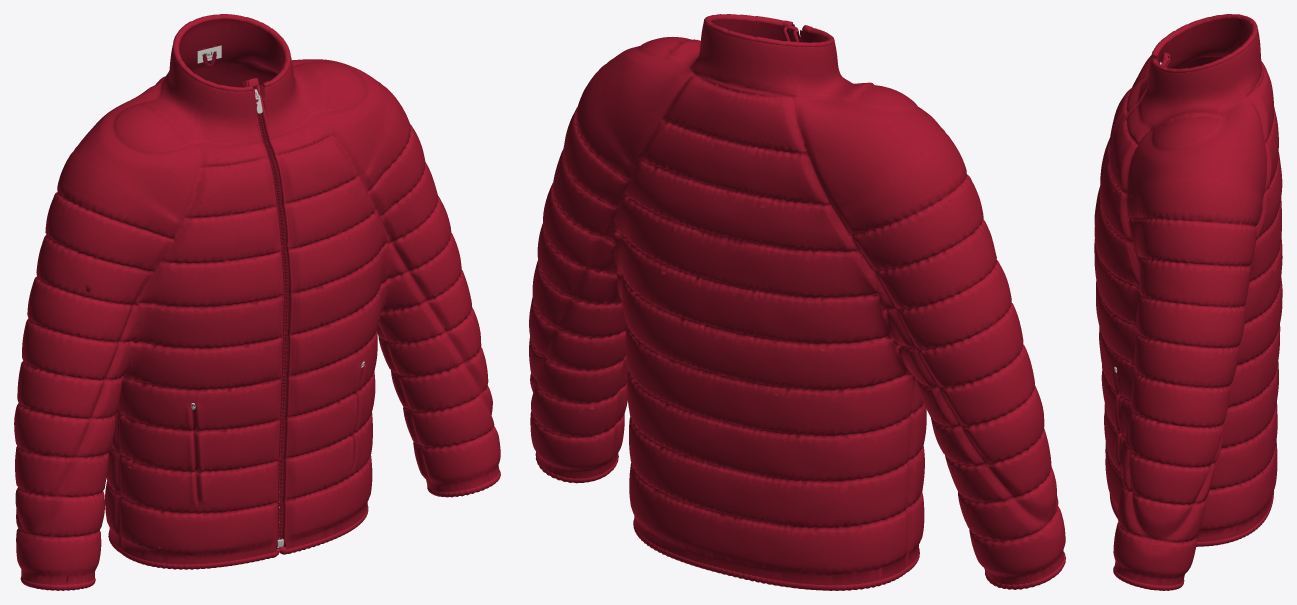
File: chaqueta-rojo.glb
3 renders of one model, left to right at view 1: azimuth 30°, elevation 25°; view 2: azimuth 150°, elevation 25°; view 3: azimuth 270°, elevation 25°, orthographic. The views are drawn at different scales.
Parts seen in each view (by area): view 1: tela, ribetes, forro, espiral, cinta; view 2: tela, ribetes, forro; view 3: tela, forro, ribetes.
Boxes of the visible parts, bbox=[...] form: tela: bbox=[14, 45, 500, 584]; ribetes: bbox=[20, 14, 500, 590]; forro: bbox=[179, 19, 285, 476]; espiral: bbox=[253, 87, 288, 539]; cinta: bbox=[243, 78, 289, 539]; tela: bbox=[529, 22, 1065, 585]; ribetes: bbox=[535, 14, 1065, 590]; forro: bbox=[711, 19, 825, 42]; tela: bbox=[1094, 28, 1282, 585]; forro: bbox=[1147, 18, 1251, 84]; ribetes: bbox=[1108, 14, 1273, 590].
Bounding box in the file's own units: 0.7967 × 0.7818 × 0.2864.
8 materials, 2 textured.
